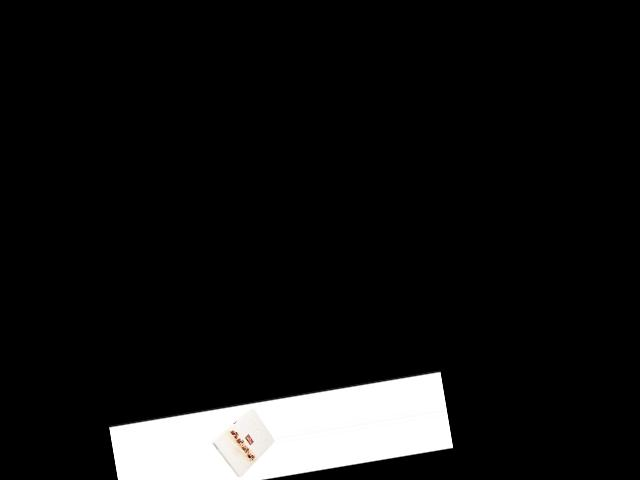chocolate: (206, 406, 279, 480)
